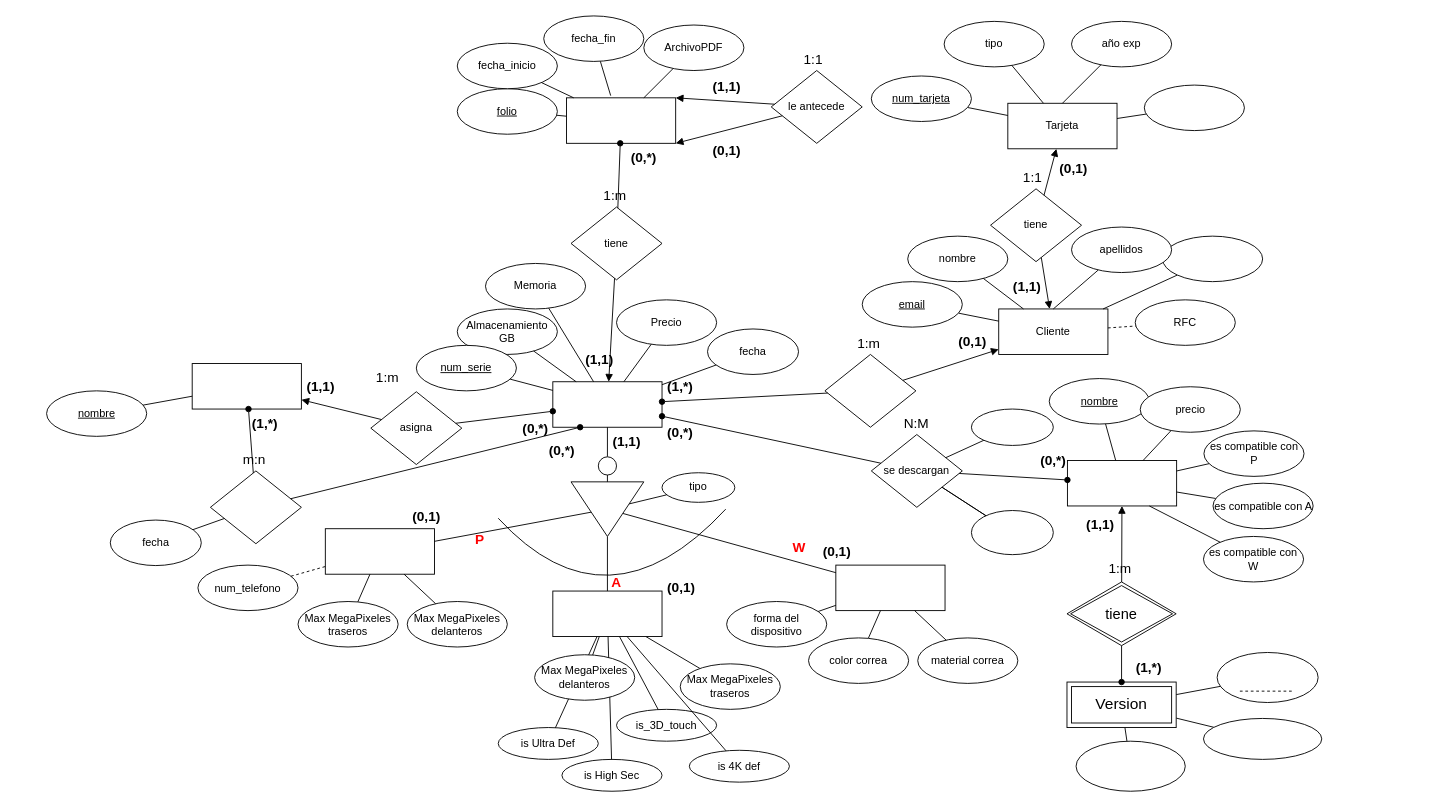
The diagram is 1432 pixels wide and 807 high, and some of its shapes have lost their labels. The centre of each missing label's shape, as x and y in pixels:
"Aplicacion" goes at point (1122, 483).
"bit verificacion" goes at point (1012, 426).
"caracteristicas" goes at point (1262, 738).
"Dispositivo" goes at point (607, 404).
"Estado" goes at point (246, 386).
"fecha compra" goes at point (1012, 532).
"fecha_liber" goes at point (1130, 765).
"GPad" goes at point (607, 613).
"GPhone" goes at point (379, 551).
"GWatch" goes at point (890, 587).
"le pertenece" goes at point (870, 390).
"mes exp" goes at point (1193, 107).
"num_version" goes at point (1267, 677).
"password" goes at point (1212, 258).
"Poliza" goes at point (621, 120).
"tiene (Historico)" goes at point (255, 507).
